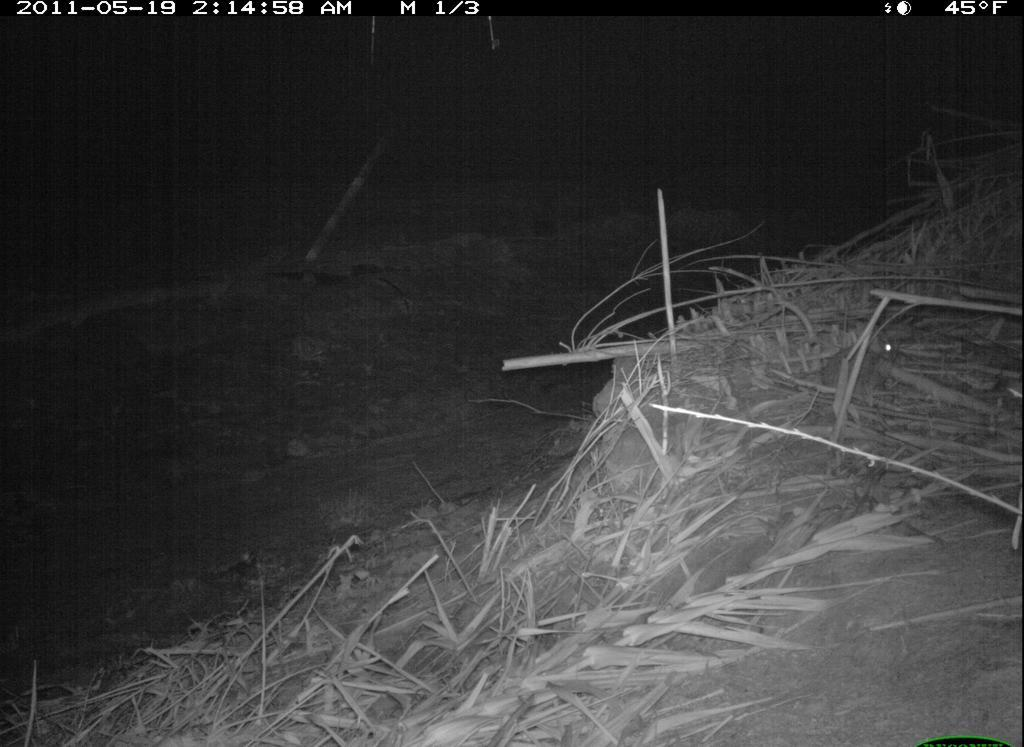rabbit: (807, 306, 909, 420)
